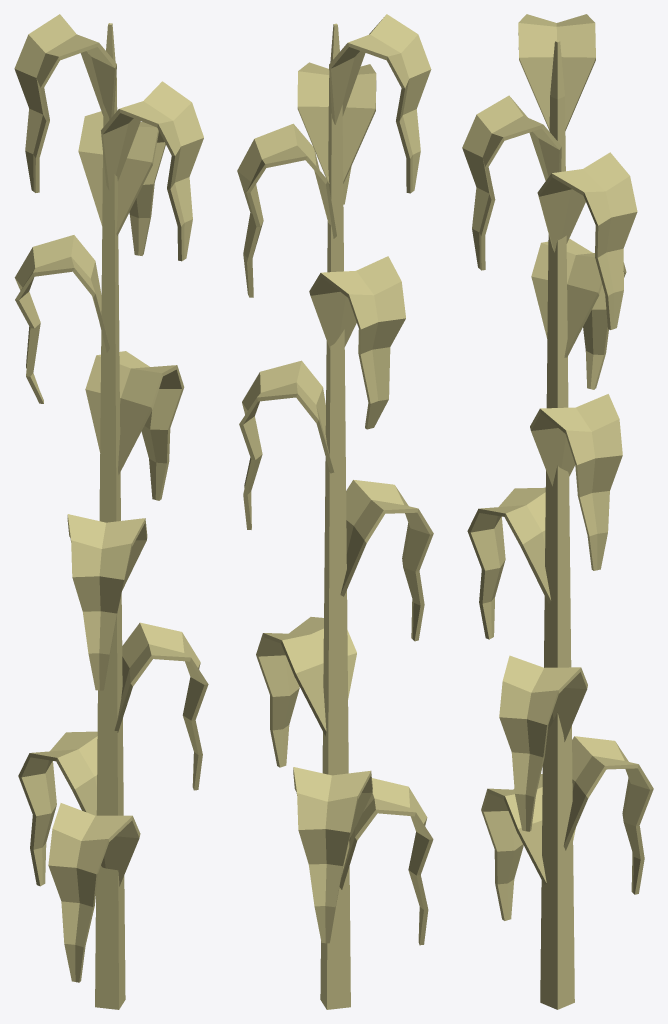
The model's file is corn_low_dead.fbx.
3 renders of one model, left to right at view 1: azimuth 30°, elevation 25°; view 2: azimuth 150°, elevation 25°; view 3: azimuth 270°, elevation 25°, orthographic.
Visible parts, largest first — view 1: Cube; view 2: Cube; view 3: Cube.
Part boxes in pixels (left/top/right/bottom): Cube: left=14, top=14, right=208, bottom=1009; Cube: left=237, top=14, right=433, bottom=1009; Cube: left=462, top=14, right=653, bottom=1009.
Bounding box in the file's own units: 25.68 × 144 × 25.84.
